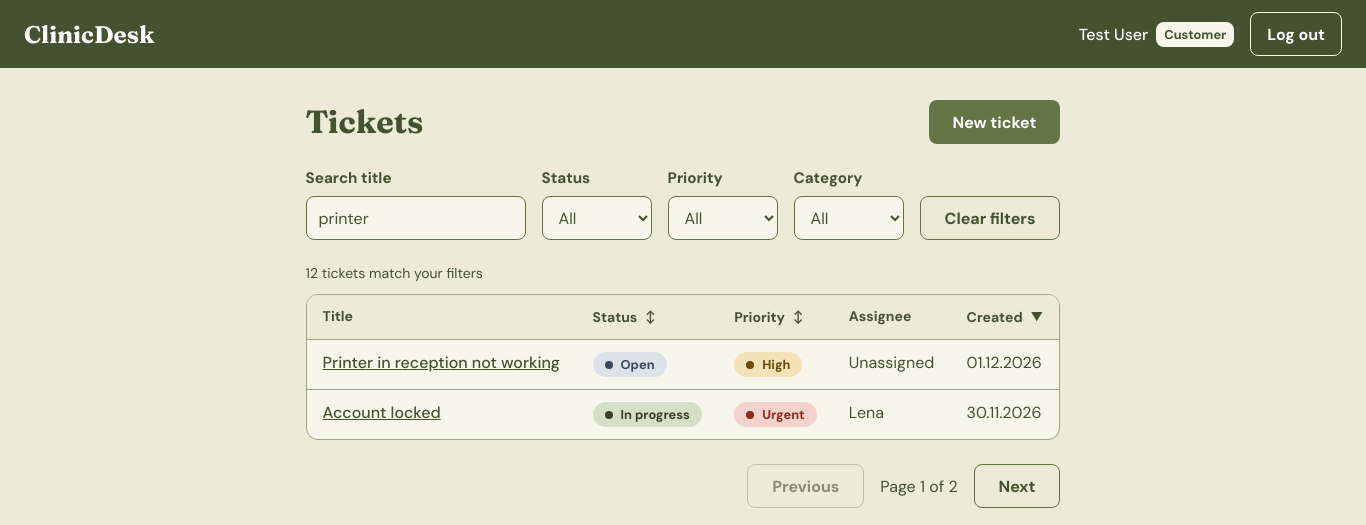
search › follows the URL when the search is cleared from outside
Expected: the table is shown, [307,295,1059,439]
What coordinates should you click on to do the following:
click the button "Clear filters"
I would click on:
 (990, 218)
Its box is [920,196,1060,240].
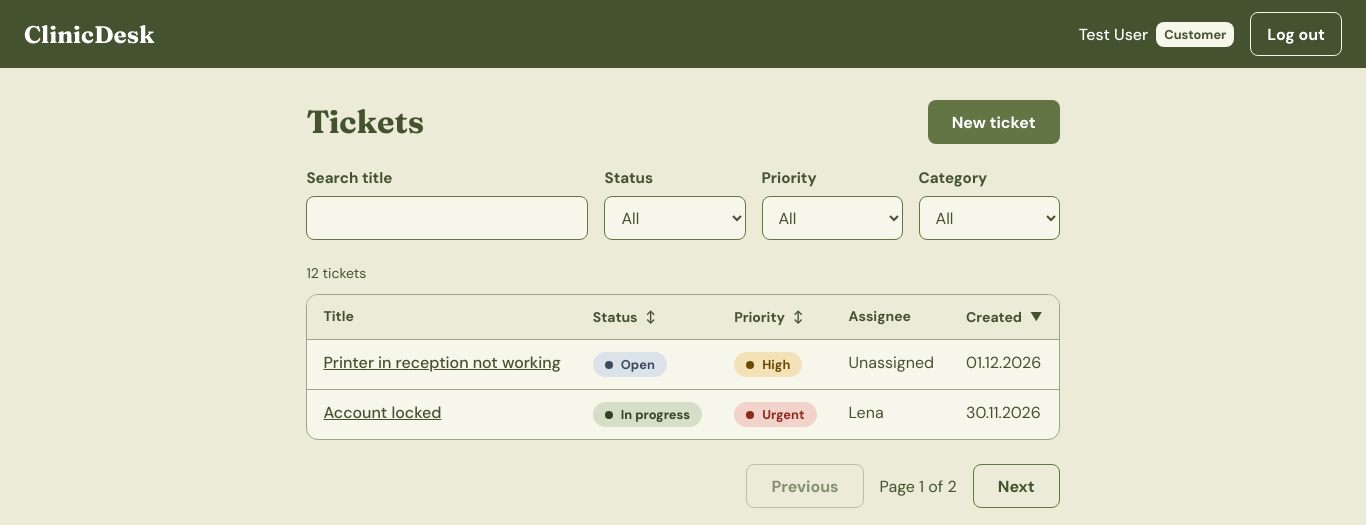
Expected: the search field labelled "Search title" is empty, [306,196,588,240]
